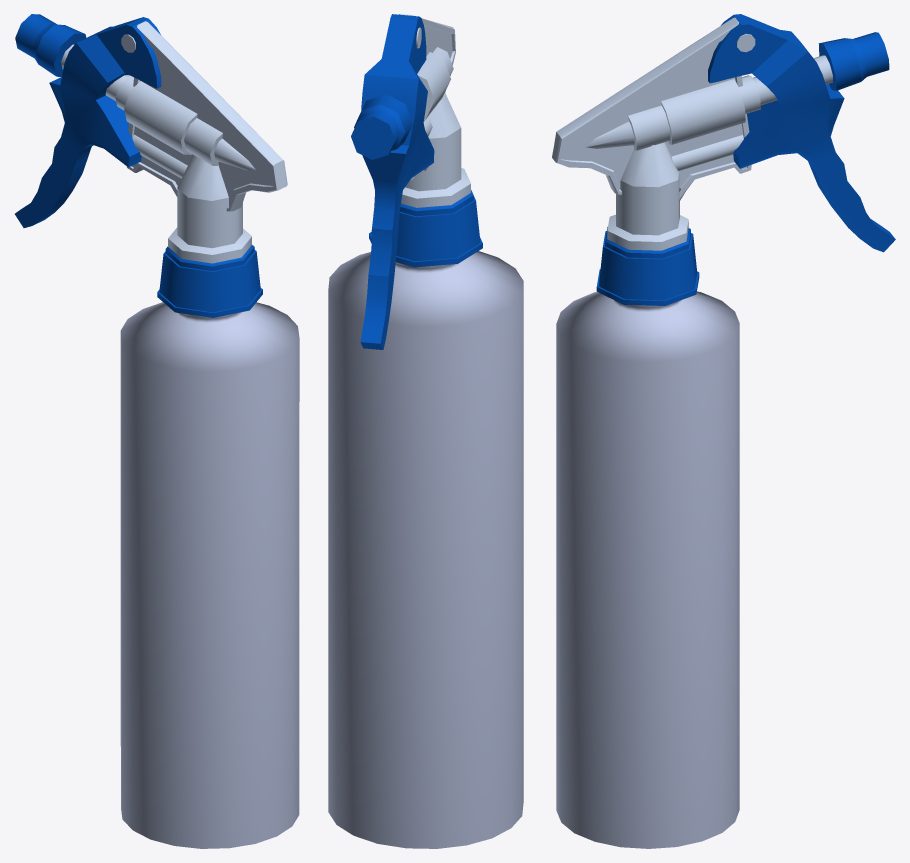
File: sprayer.fbx
3 renders of one model, left to right at view 1: azimuth 30°, elevation 25°; view 2: azimuth 150°, elevation 25°; view 3: azimuth 270°, elevation 25°, orthographic. The views are drawn at different scales.
Visible parts, largest first — view 1: sprayer-bottle, sprayer-lever, sprayer-head-main, sprayer-head-base, sprayer-head-cap, sprayer-head-middle, sprayer-tip, sprayer-head-bottom, sprayer-head-nozzle; view 2: sprayer-bottle, sprayer-lever, sprayer-head-cap, sprayer-head-base, sprayer-tip, sprayer-head-middle, sprayer-head-main; view 3: sprayer-bottle, sprayer-lever, sprayer-head-main, sprayer-head-base, sprayer-head-middle, sprayer-head-cap, sprayer-tip, sprayer-head-nozzle, sprayer-head-bottom.
Part boxes in pixels (x1,y1,x2,y2): sprayer-bottle: (120, 302, 299, 848); sprayer-lever: (15, 17, 161, 227); sprayer-head-main: (127, 21, 287, 211); sprayer-head-base: (168, 155, 251, 263); sprayer-head-cap: (157, 245, 262, 317); sprayer-head-middle: (124, 81, 256, 170); sprayer-tip: (15, 14, 86, 76); sprayer-head-bottom: (132, 134, 187, 178); sprayer-head-nozzle: (61, 44, 133, 110); sprayer-bottle: (328, 251, 523, 848); sprayer-lever: (360, 14, 434, 349); sprayer-head-cap: (369, 190, 482, 267); sprayer-head-base: (401, 93, 470, 207); sprayer-tip: (351, 94, 412, 159); sprayer-head-middle: (417, 47, 453, 119); sprayer-head-main: (398, 14, 455, 180); sprayer-bottle: (556, 291, 739, 848); sprayer-lever: (708, 14, 895, 252); sprayer-head-main: (552, 17, 751, 201); sprayer-head-base: (607, 142, 688, 250); sprayer-head-middle: (585, 79, 745, 150); sprayer-head-cap: (596, 227, 699, 305); sprayer-tip: (818, 32, 889, 90); sprayer-head-nozzle: (739, 55, 832, 113); sprayer-head-bottom: (672, 135, 743, 170).
Bounding box in the file's own units: 7.29 × 33.01 × 13.21.
